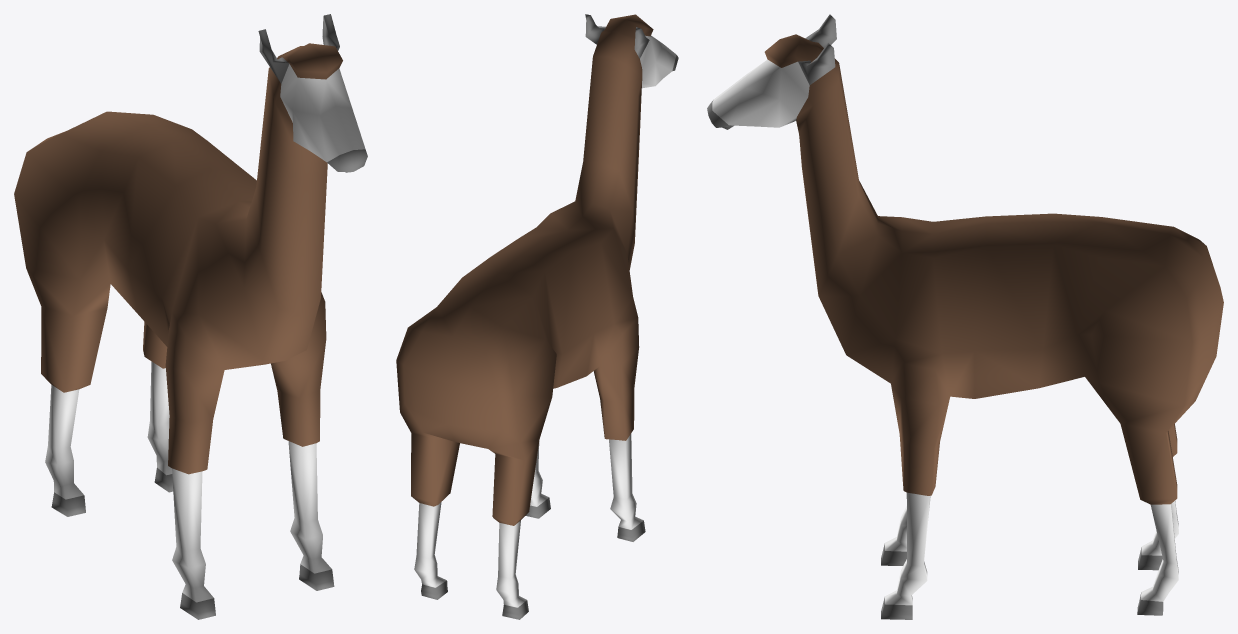
The model's file is Llama.gltf.
The picture shows the model from 3 angles, left to right: view 1: azimuth 30°, elevation 25°; view 2: azimuth 150°, elevation 25°; view 3: azimuth 270°, elevation 25°; orthographic projection. The views are drawn at different scales.
Visible parts, largest first — view 1: Node1; view 2: Node1; view 3: Node1.
Boxes of the visible parts, x1,y1,x2,y2 form: Node1: [14, 14, 367, 619]; Node1: [396, 14, 678, 619]; Node1: [707, 14, 1223, 619].
Size of the model in its own units: 1.57 by 5.86 by 4.91.
